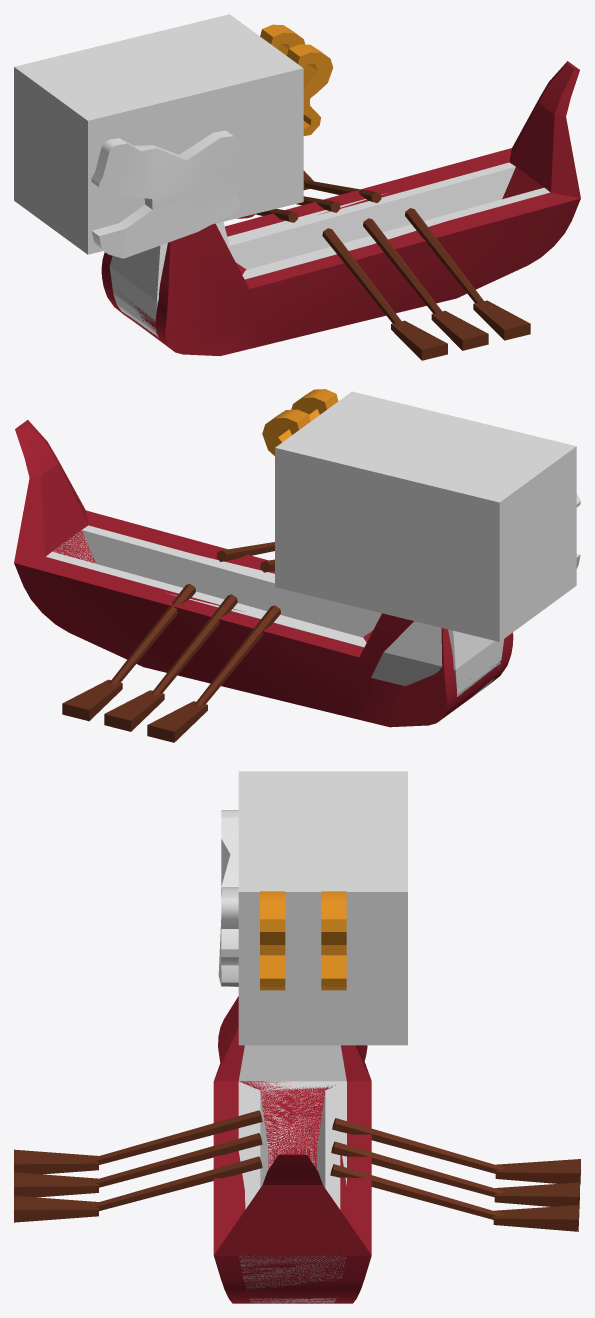
Rendered from DrakkarCOLORED 1.fbx.
3 renders of one model, top to bottom at view 1: azimuth 30°, elevation 25°; view 2: azimuth 150°, elevation 25°; view 3: azimuth 270°, elevation 25°, orthographic. The views are drawn at different scales.
Parts seen in each view (by area): view 1: Cube, Cube.002, Cube.001, Wioslo 1, Wioslo 2; view 2: Cube.002, Cube, Cube.001, Wioslo 2, Wioslo 1; view 3: Cube.002, Cube, Cube.001, Wioslo 1, Wioslo 2.
Part boxes in pixels (left/top/right/bottom): Cube: left=91, top=24, right=580, bottom=355; Cube.002: left=14, top=14, right=303, bottom=254; Cube.001: left=109, top=162, right=549, bottom=344; Wioslo 1: left=322, top=208, right=530, bottom=360; Wioslo 2: left=255, top=170, right=381, bottom=222; Cube.002: left=275, top=391, right=576, bottom=641; Cube: left=14, top=389, right=580, bottom=727; Cube.001: left=46, top=525, right=504, bottom=696; Wioslo 2: left=62, top=584, right=280, bottom=742; Wioslo 1: left=216, top=542, right=274, bottom=572; Cube.002: left=238, top=771, right=407, bottom=1045; Cube: left=213, top=810, right=371, bottom=1303; Cube.001: left=238, top=1045, right=346, bottom=1303; Wioslo 1: left=14, top=1110, right=262, bottom=1222; Wioslo 2: left=330, top=1118, right=580, bottom=1231.
Size of the model in its own units: 91.43 by 47.32 by 76.89.
